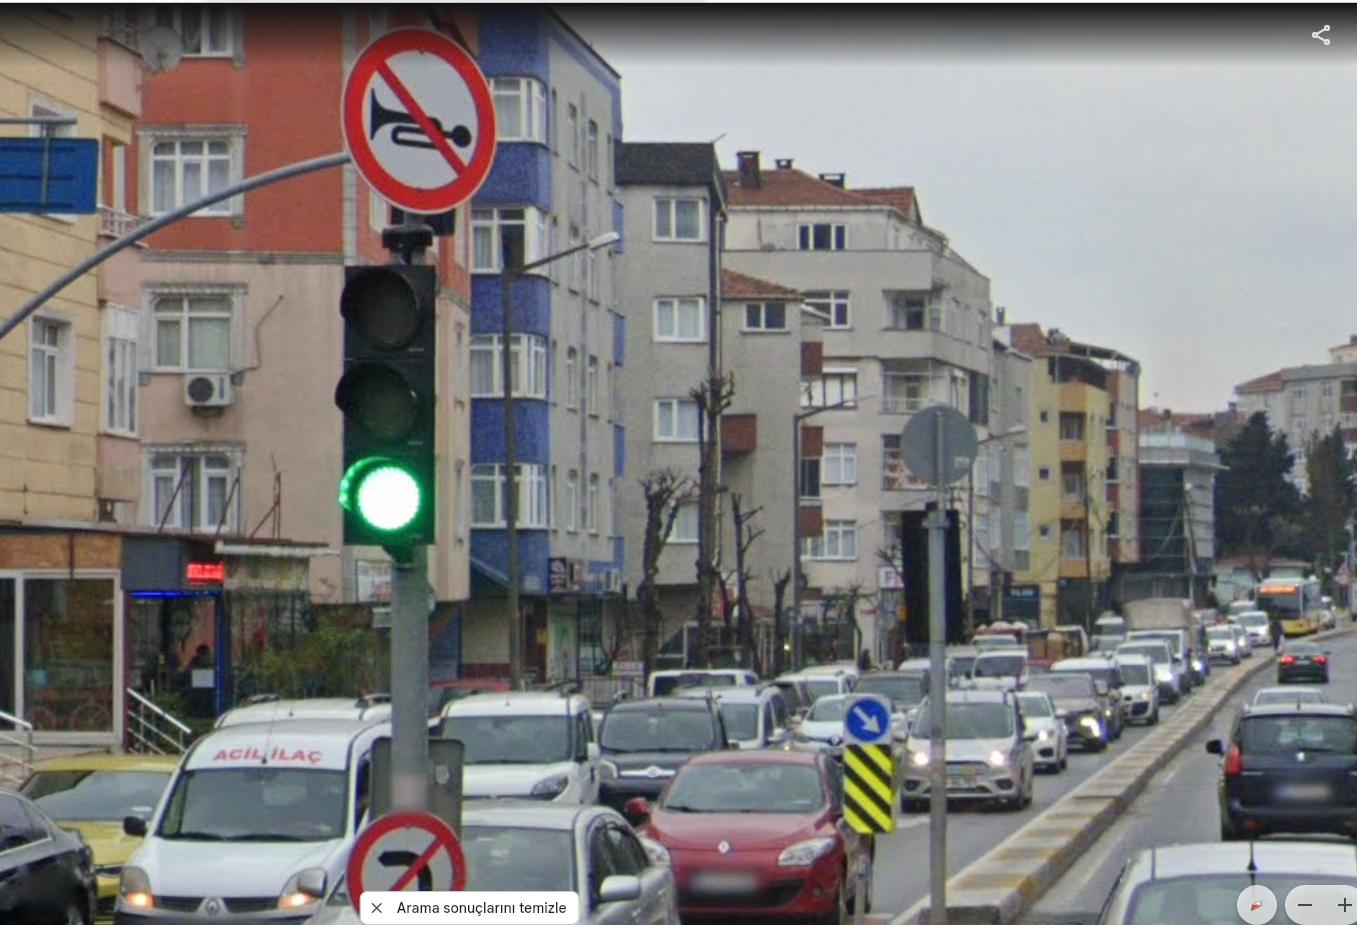greenlight: (342, 262, 437, 537)
